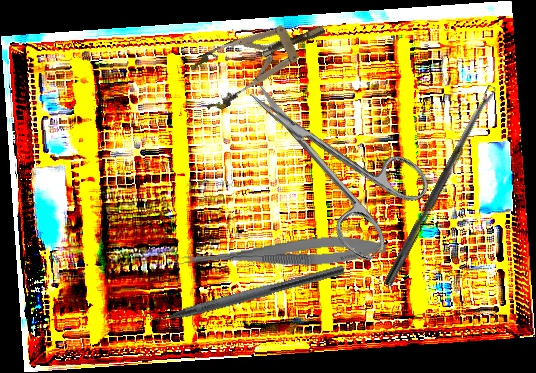Chopper: (134, 251, 347, 333)
Iris Scissors: (219, 47, 441, 267)
Micro Scissor: (175, 230, 388, 279)
Speculum: (186, 3, 337, 115)
Surgical Spoon: (383, 84, 498, 288)
